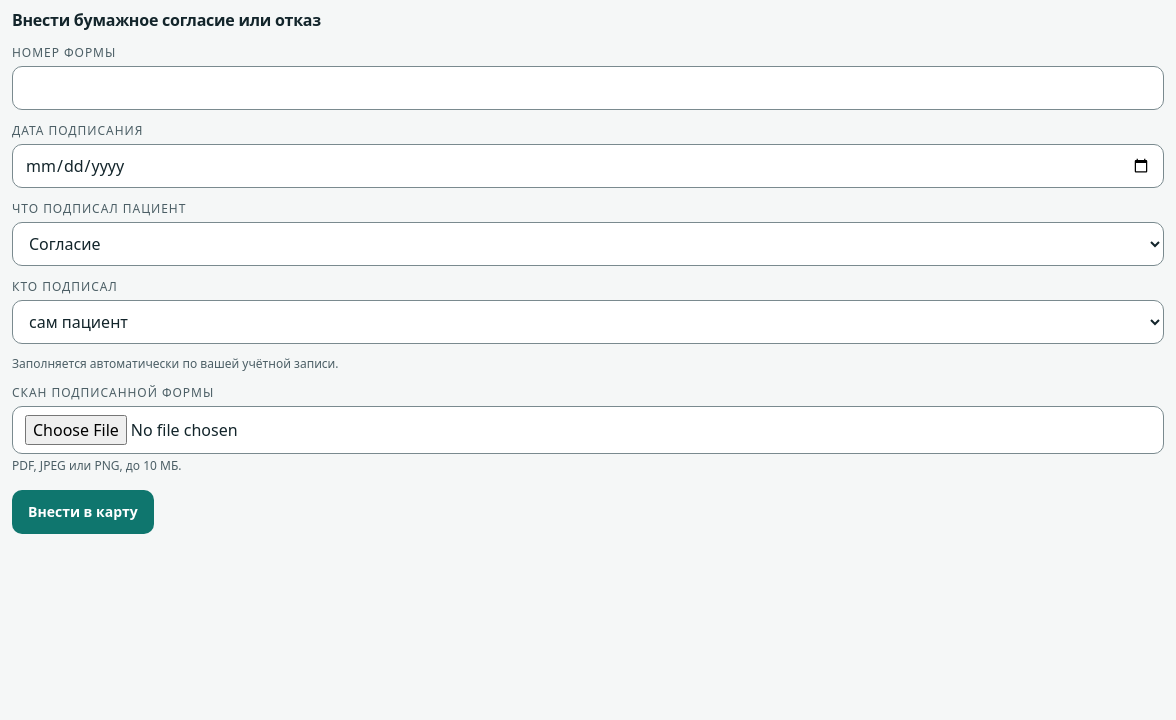
Test: ConsentRecordForm › should show what is missing and send nothing when the form is empty
Click the button "Внести в карту" at (83, 512), box [12,490,154,534]
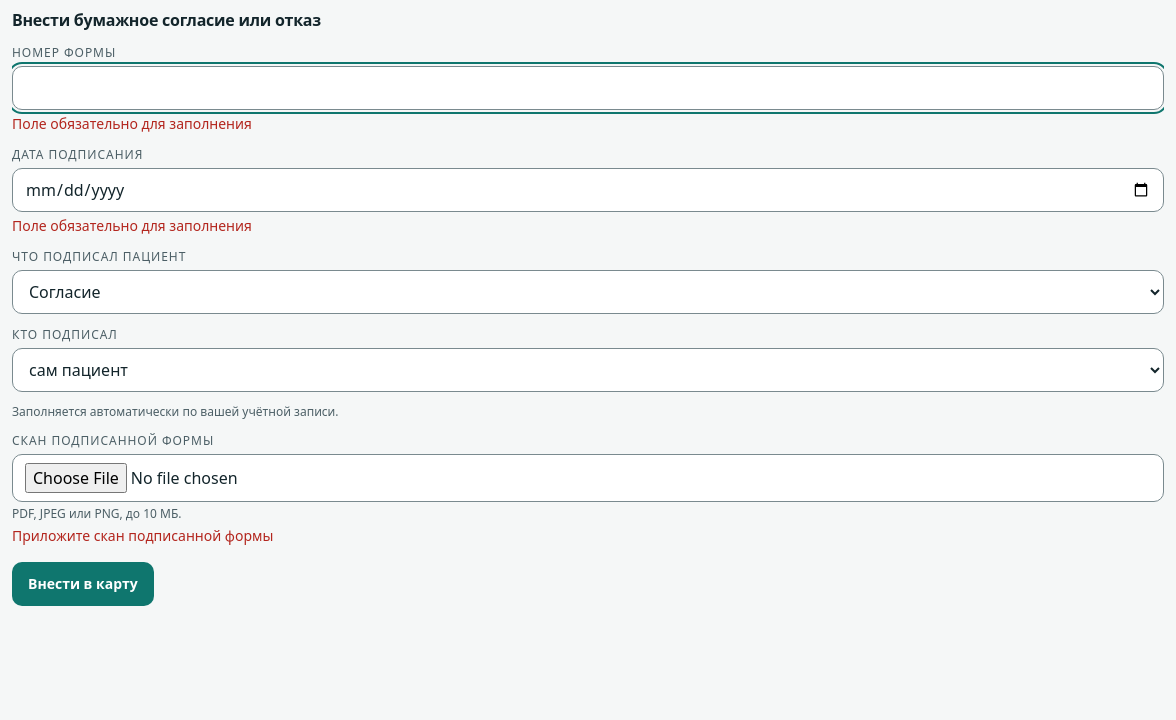
Check: the text "Поле обязательно для заполнения" is shown 2 times, box [12,114,252,133]; [12,216,252,235]
Check: the text "Приложите скан подписанной формы" is shown, box [12,526,273,545]
